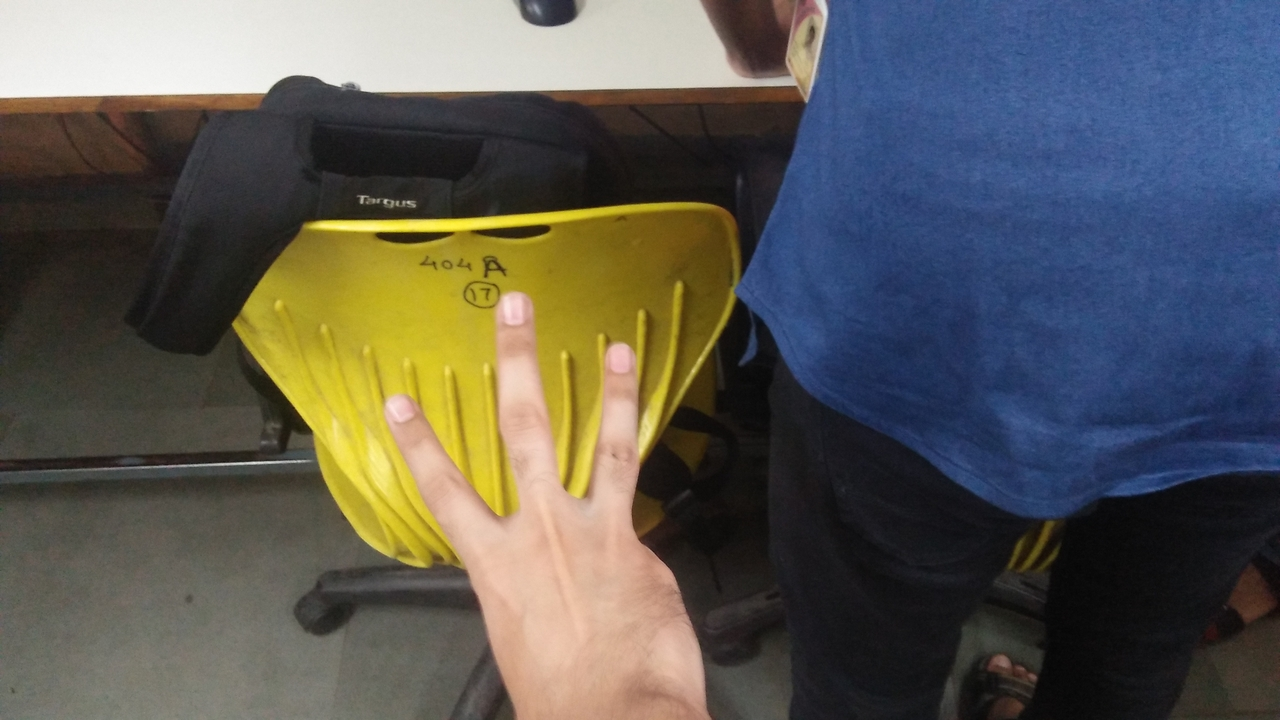fingertip: (368, 382, 436, 444), (486, 286, 540, 342), (593, 334, 645, 379)
